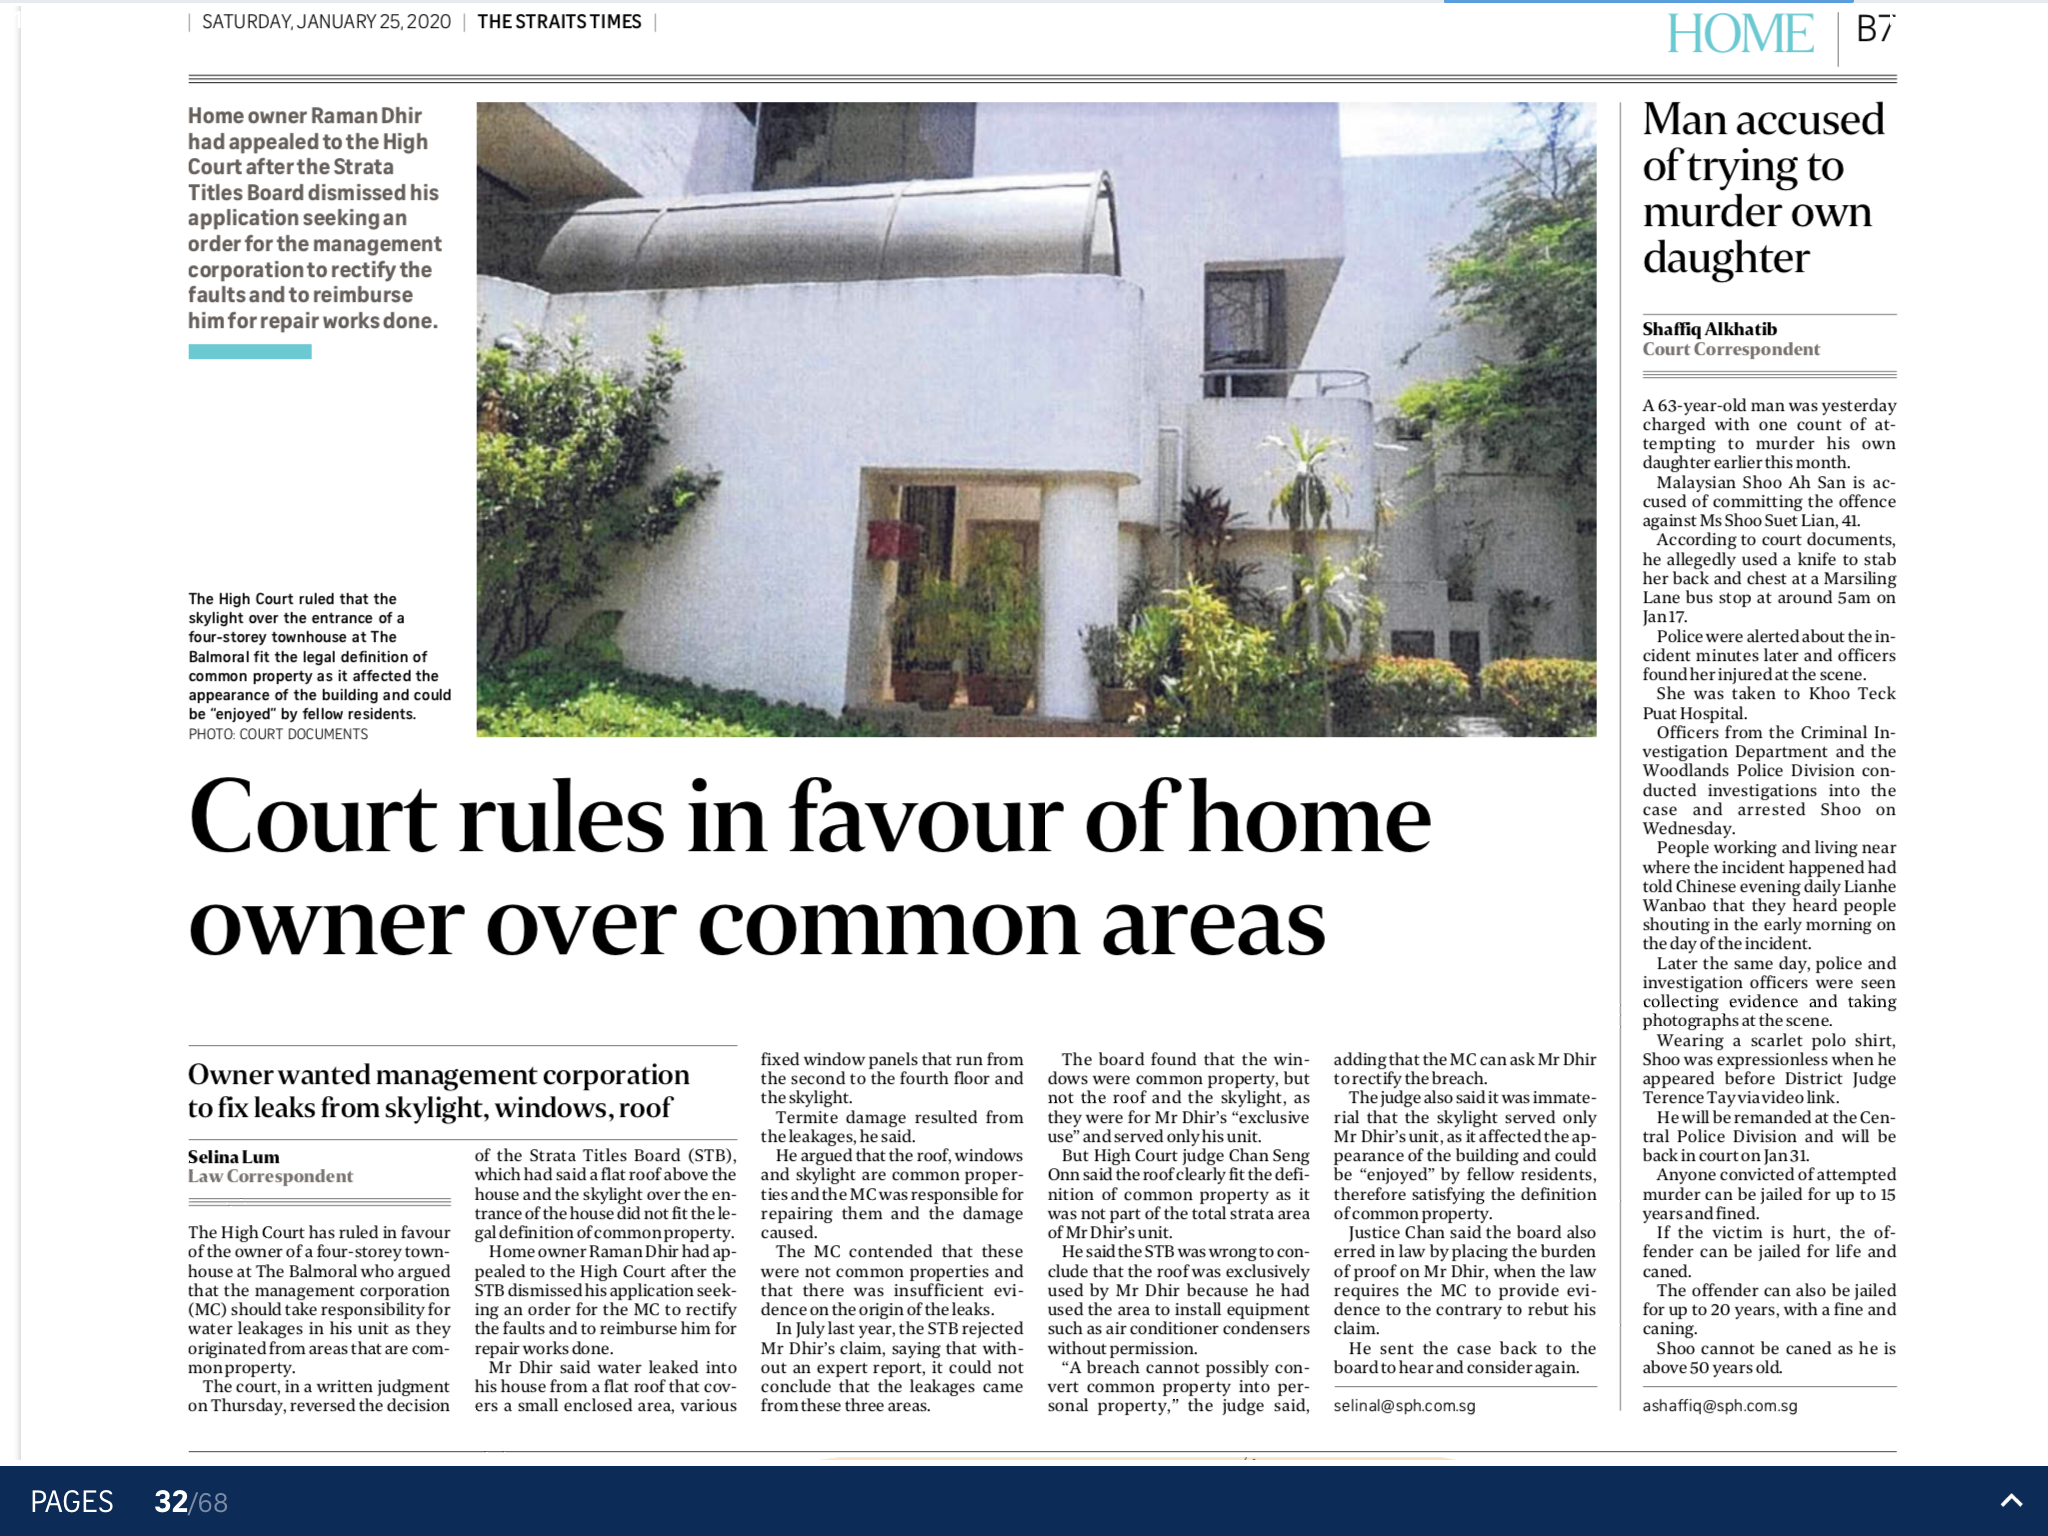Byline: (1638, 323, 1829, 360), (184, 1149, 355, 1187)
Headline: (192, 774, 1435, 958), (1643, 98, 1887, 281)
Illustration: (185, 592, 452, 741)
Image: (476, 100, 1596, 737)
Text: (1642, 395, 1900, 1373), (756, 1050, 1026, 1417), (1043, 1050, 1309, 1418), (1335, 1049, 1598, 1375), (472, 1147, 742, 1413), (189, 1225, 453, 1418)
